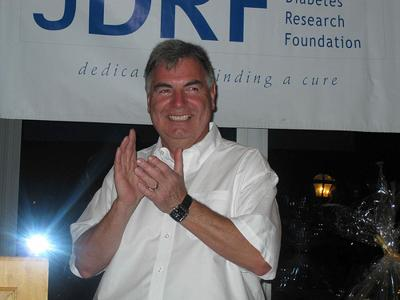person: (68, 38, 285, 300)
